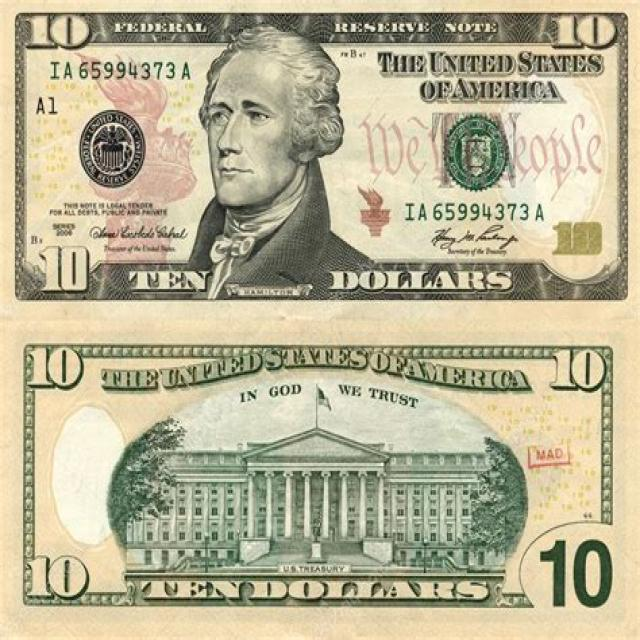Ten: (0, 310, 638, 640), (0, 0, 639, 316)
